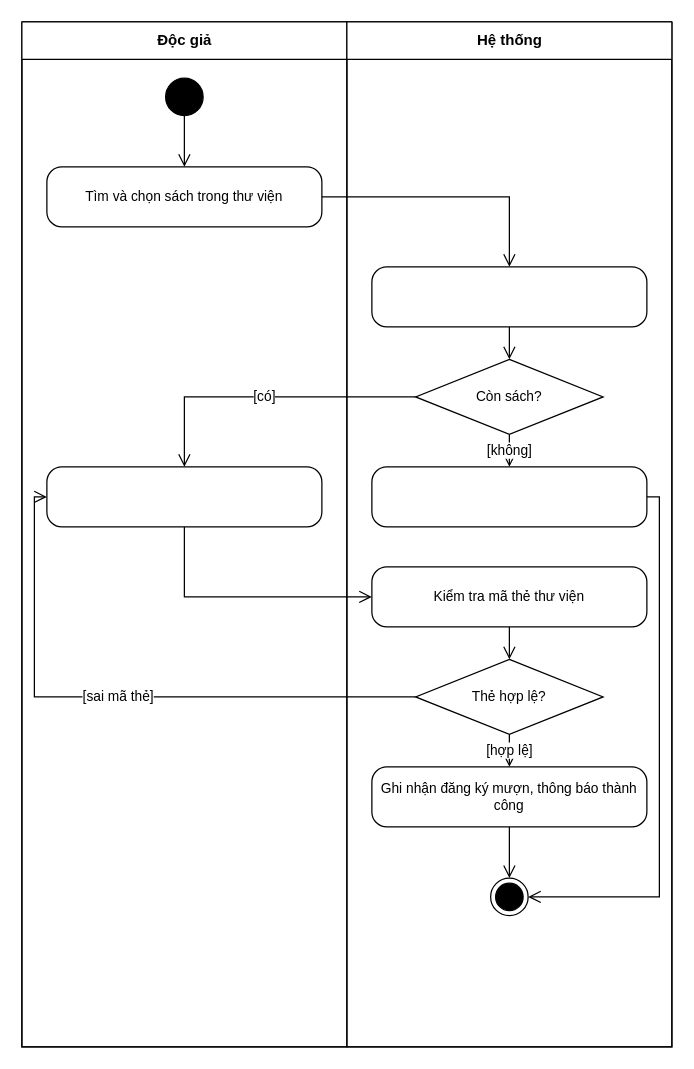
This 694x1069 diagram has some shape labels left out. Here are the shapes that lost their labels. From the top down, the centre of each, then its label:
At [509,296]: "Hiển thị số lượng sách còn trong thư viện".
At [184,496]: "Nhập mã thẻ thư viện, xác nhận đăng ký mượn".
At [509,496]: "Thông báo sách đã hết".
